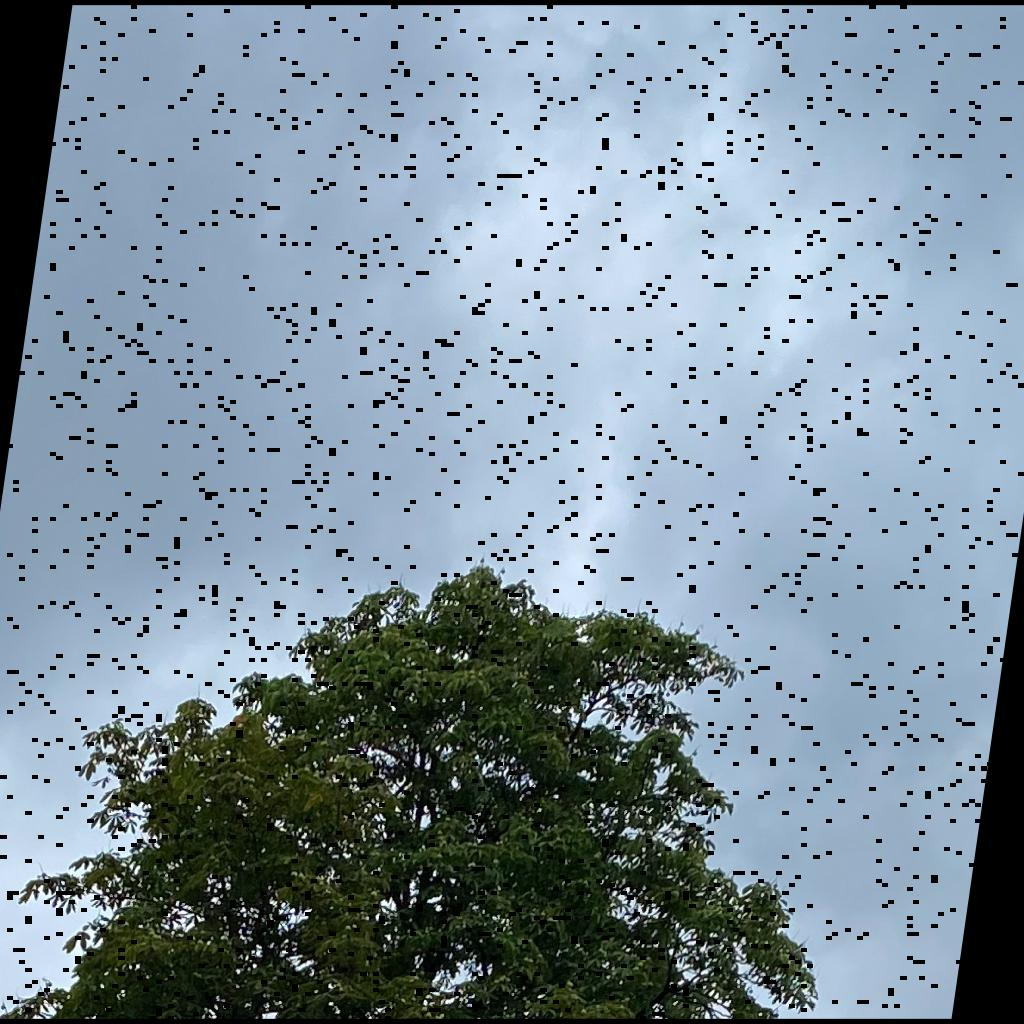tree: (1, 562, 819, 1018)
